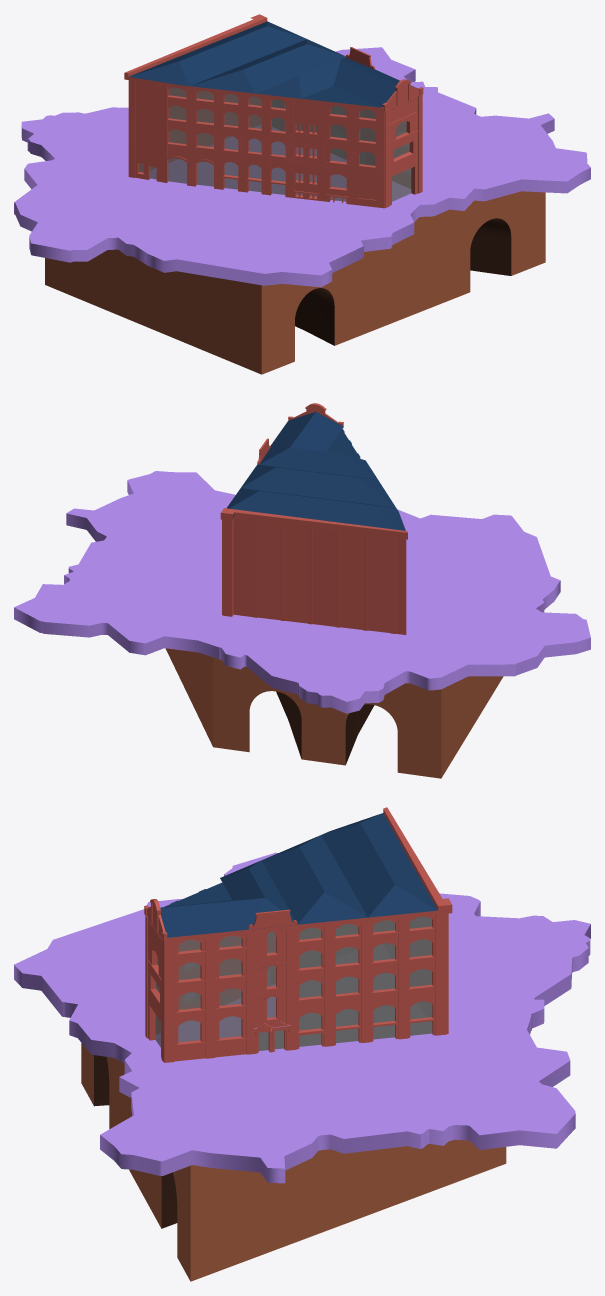
File: leeds-office-v6.gltf
3 views of the same model, one above another, from view 1: azimuth 30°, elevation 25°; view 2: azimuth 150°, elevation 25°; view 3: azimuth 270°, elevation 25° (orthographic). The views are drawn at different scales.
Parts seen in each view (by area): view 1: yorkshire-map, leeds-building, tunnel, root; view 2: yorkshire-map, leeds-building, tunnel; view 3: yorkshire-map, leeds-building, tunnel, root, window-1, window-4.
Part boxes in pixels (left/top/right/bottom): yorkshire-map: left=14, top=47, right=590, bottom=287; leeds-building: left=124, top=14, right=423, bottom=208; tunnel: left=45, top=191, right=545, bottom=374; root: left=139, top=87, right=411, bottom=201; yorkshire-map: left=14, top=471, right=590, bottom=713; leeds-building: left=220, top=403, right=407, bottom=634; tunnel: left=165, top=648, right=503, bottom=778; yorkshire-map: left=14, top=852, right=590, bottom=1183; leeds-building: left=144, top=807, right=452, bottom=1062; tunnel: left=81, top=1043, right=506, bottom=1281; root: left=155, top=916, right=431, bottom=1050; window-1: left=410, top=1001, right=432, bottom=1035; window-4: left=299, top=1012, right=321, bottom=1046.
Bounding box in the file's own units: 0.5495 × 0.2324 × 0.4241.
